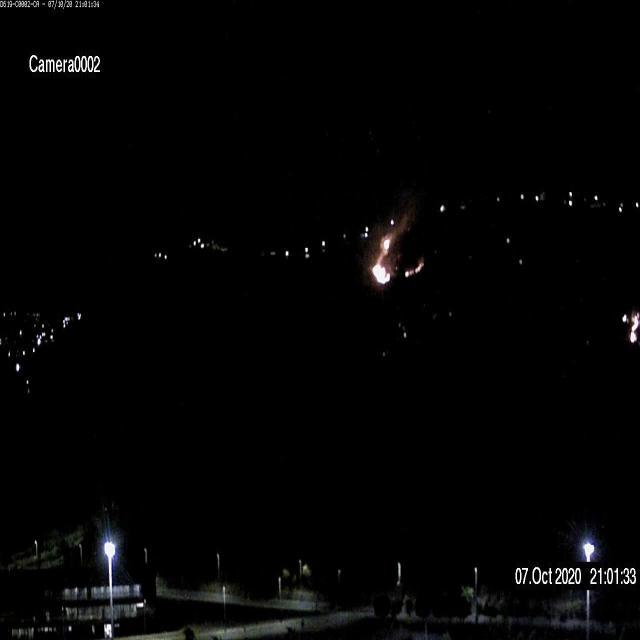Fire: (369, 228, 396, 282), (624, 308, 640, 345), (404, 258, 424, 278)
